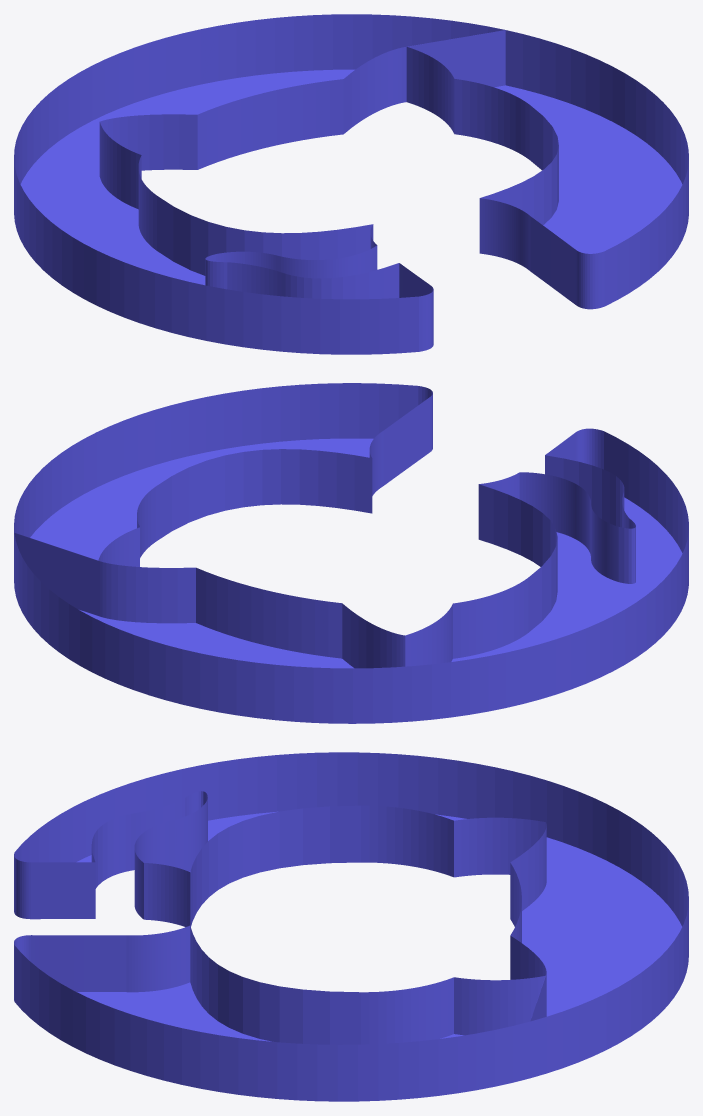
Rendered from github.glb.
3 views of the same model, one above another, from view 1: azimuth 30°, elevation 25°; view 2: azimuth 150°, elevation 25°; view 3: azimuth 270°, elevation 25° (orthographic). The views are drawn at different scales.
Visible parts, largest first — view 1: Curve; view 2: Curve; view 3: Curve.
Boxes of the visible parts, x1=… form: Curve: x1=14, y1=14, x2=688, y2=354; Curve: x1=14, y1=383, x2=688, y2=723; Curve: x1=14, y1=752, x2=688, y2=1101.
Size of the model in its own units: 0.0564 by 0.00511 by 0.055.
